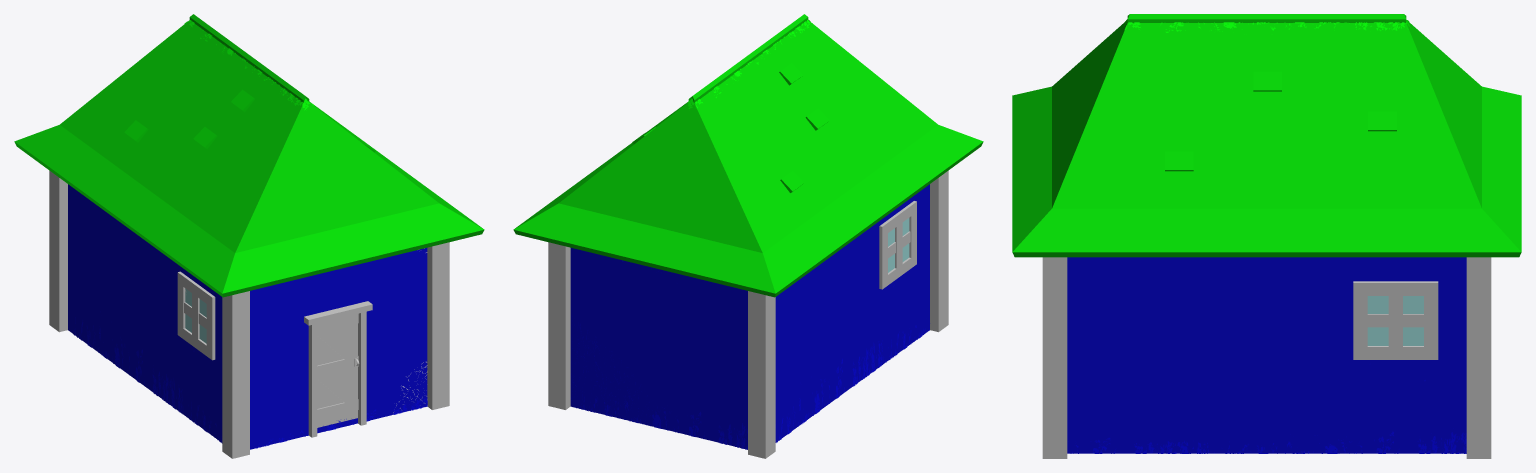
Rendered from House_1f_1.fbx.
3 renders of one model, left to right at view 1: azimuth 30°, elevation 25°; view 2: azimuth 150°, elevation 25°; view 3: azimuth 270°, elevation 25°, orthographic. The views are drawn at different scales.
Visible parts, largest first — view 1: House_1f_1; view 2: House_1f_1; view 3: House_1f_1.
Boxes of the visible parts, x1=… form: House_1f_1: x1=14, y1=14, x2=484, y2=458; House_1f_1: x1=513, y1=14, x2=983, y2=458; House_1f_1: x1=1012, y1=14, x2=1521, y2=458.
Size of what is drawn, in the model's own units: 525 by 593 by 721.
